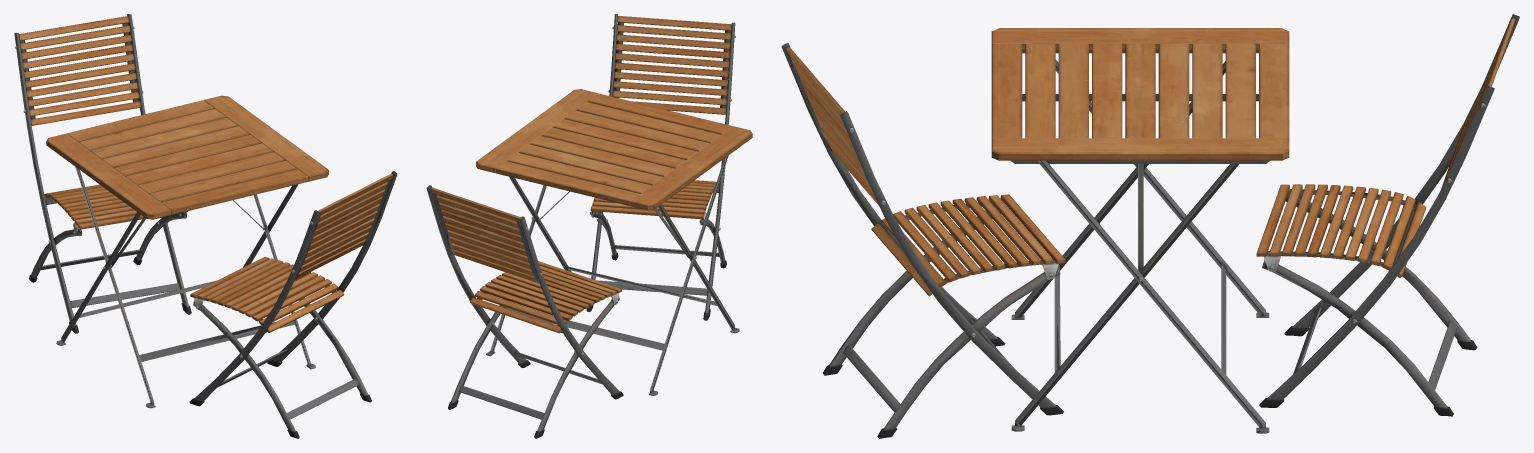
The model's file is outdoor_table_chair_set_01.glb.
3 renders of one model, left to right at view 1: azimuth 30°, elevation 25°; view 2: azimuth 150°, elevation 25°; view 3: azimuth 270°, elevation 25°, orthographic. The views are drawn at different scales.
Parts seen in each view (by area): view 1: outdoor_table_chair_set_01_chair_01, outdoor_table_chair_set_01_table; view 2: outdoor_table_chair_set_01_chair_01, outdoor_table_chair_set_01_table; view 3: outdoor_table_chair_set_01_table, outdoor_table_chair_set_01_chair_01.
Part boxes in pixels (<box>): outdoor_table_chair_set_01_chair_01: <box>14,14,397,438</box>; outdoor_table_chair_set_01_table: <box>46,95,328,408</box>; outdoor_table_chair_set_01_chair_01: <box>426,14,735,438</box>; outdoor_table_chair_set_01_table: <box>476,89,752,395</box>; outdoor_table_chair_set_01_table: <box>991,28,1289,433</box>; outdoor_table_chair_set_01_chair_01: <box>781,14,1519,438</box>.
Bounding box in the file's own units: 0.7417 × 0.8579 × 1.72.
2 materials, 2 textured.
